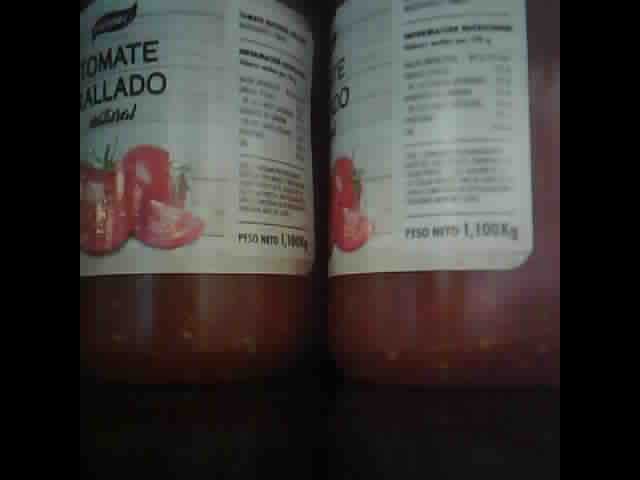tomate: (325, 2, 558, 387), (84, 3, 318, 384)
